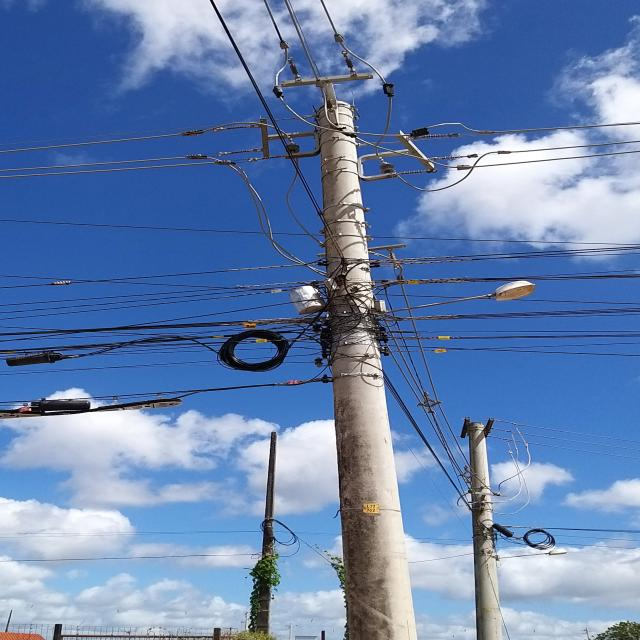Plaqueta: (288, 380, 300, 385), (18, 407, 30, 412)
